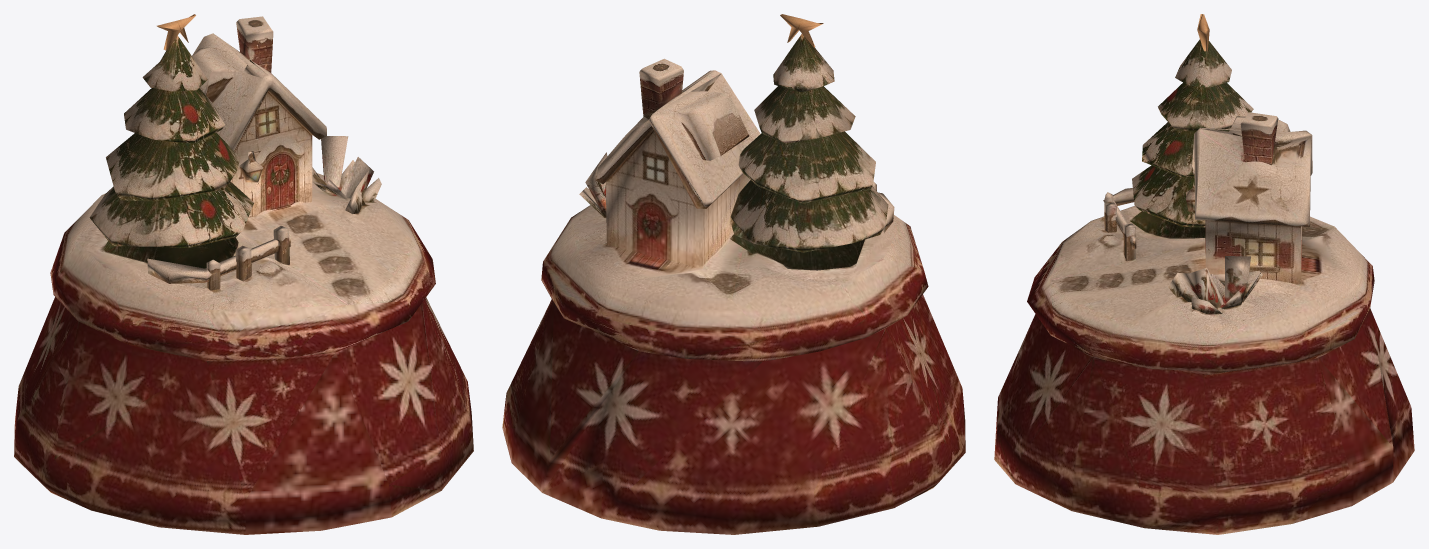
Rendered from snowglobe.glb.
3 views of the same model, side by side, from view 1: azimuth 30°, elevation 25°; view 2: azimuth 150°, elevation 25°; view 3: azimuth 270°, elevation 25° (orthographic). The views are drawn at different scales.
Size of the model in its own units: 0.8813 by 0.9229 by 0.8872.
Materials: 1 (1 with a texture image).
